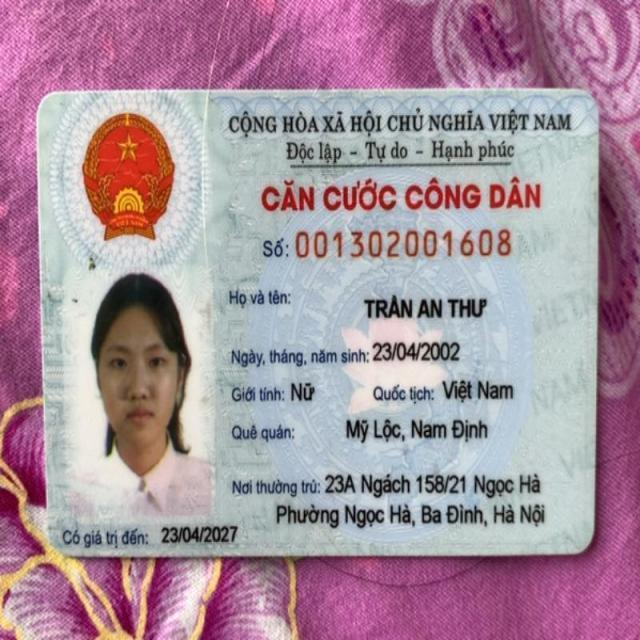current_place: (276, 498, 557, 529), (320, 466, 546, 500)
dob: (374, 339, 467, 364)
expire_date: (158, 521, 243, 547)
gender: (285, 374, 329, 406)
id: (294, 227, 521, 262)
name: (358, 285, 498, 326)
nationality: (437, 372, 522, 405)
origin_place: (343, 412, 490, 446)
